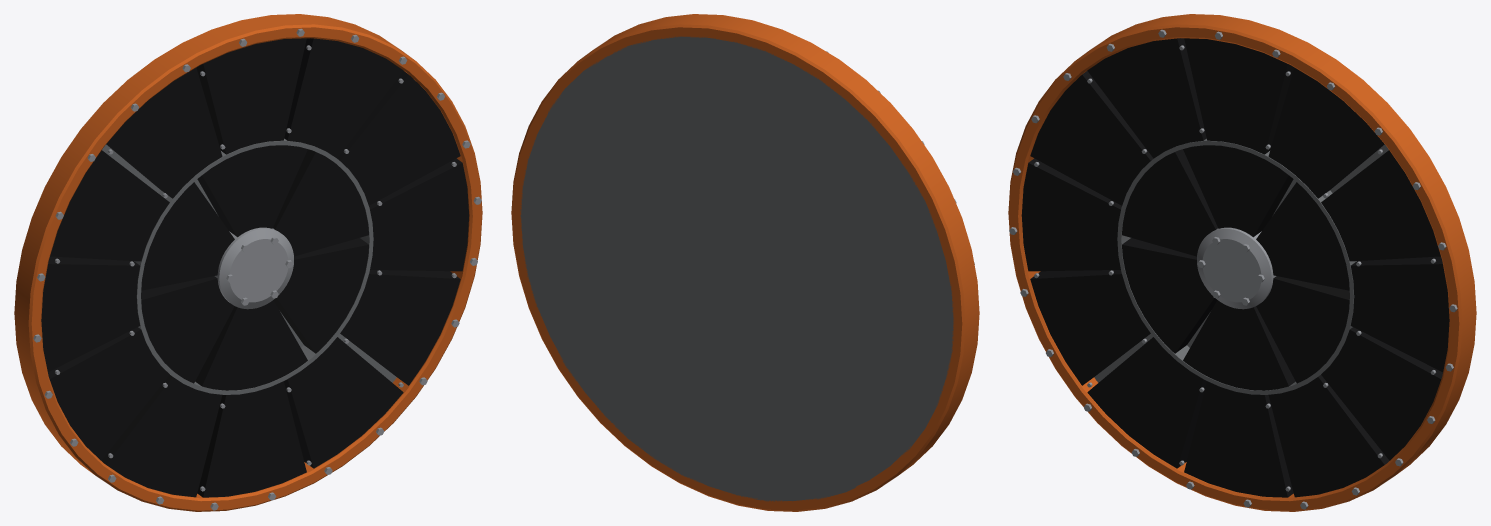
The model's file is engine_hot_emitter_annulus.obj.
3 views of the same model, side by side, from view 1: azimuth 30°, elevation 25°; view 2: azimuth 150°, elevation 25°; view 3: azimuth 330°, elevation 25° (orthographic).
Parts seen in each view (by area): view 1: engine_hot_emitter_annulus; view 2: engine_hot_emitter_annulus; view 3: engine_hot_emitter_annulus.
Boxes of the visible parts, bbox=[...] form: engine_hot_emitter_annulus: bbox=[14, 14, 482, 511]; engine_hot_emitter_annulus: bbox=[511, 14, 979, 511]; engine_hot_emitter_annulus: bbox=[1008, 14, 1476, 511].
Bounding box in the file's own units: 4.61 × 4.61 × 0.36.
